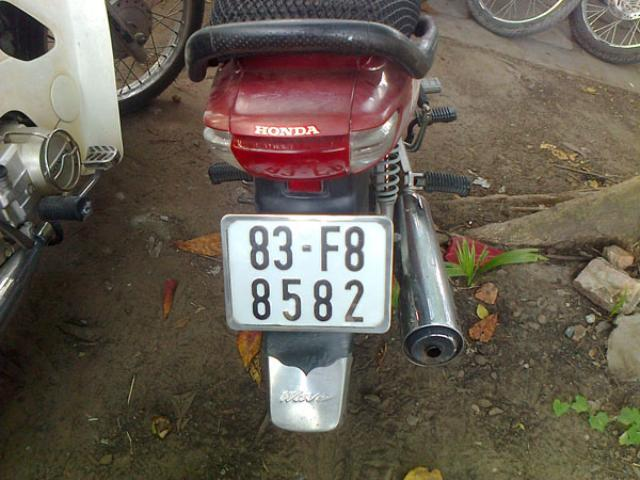plate: (230, 215, 384, 330)
